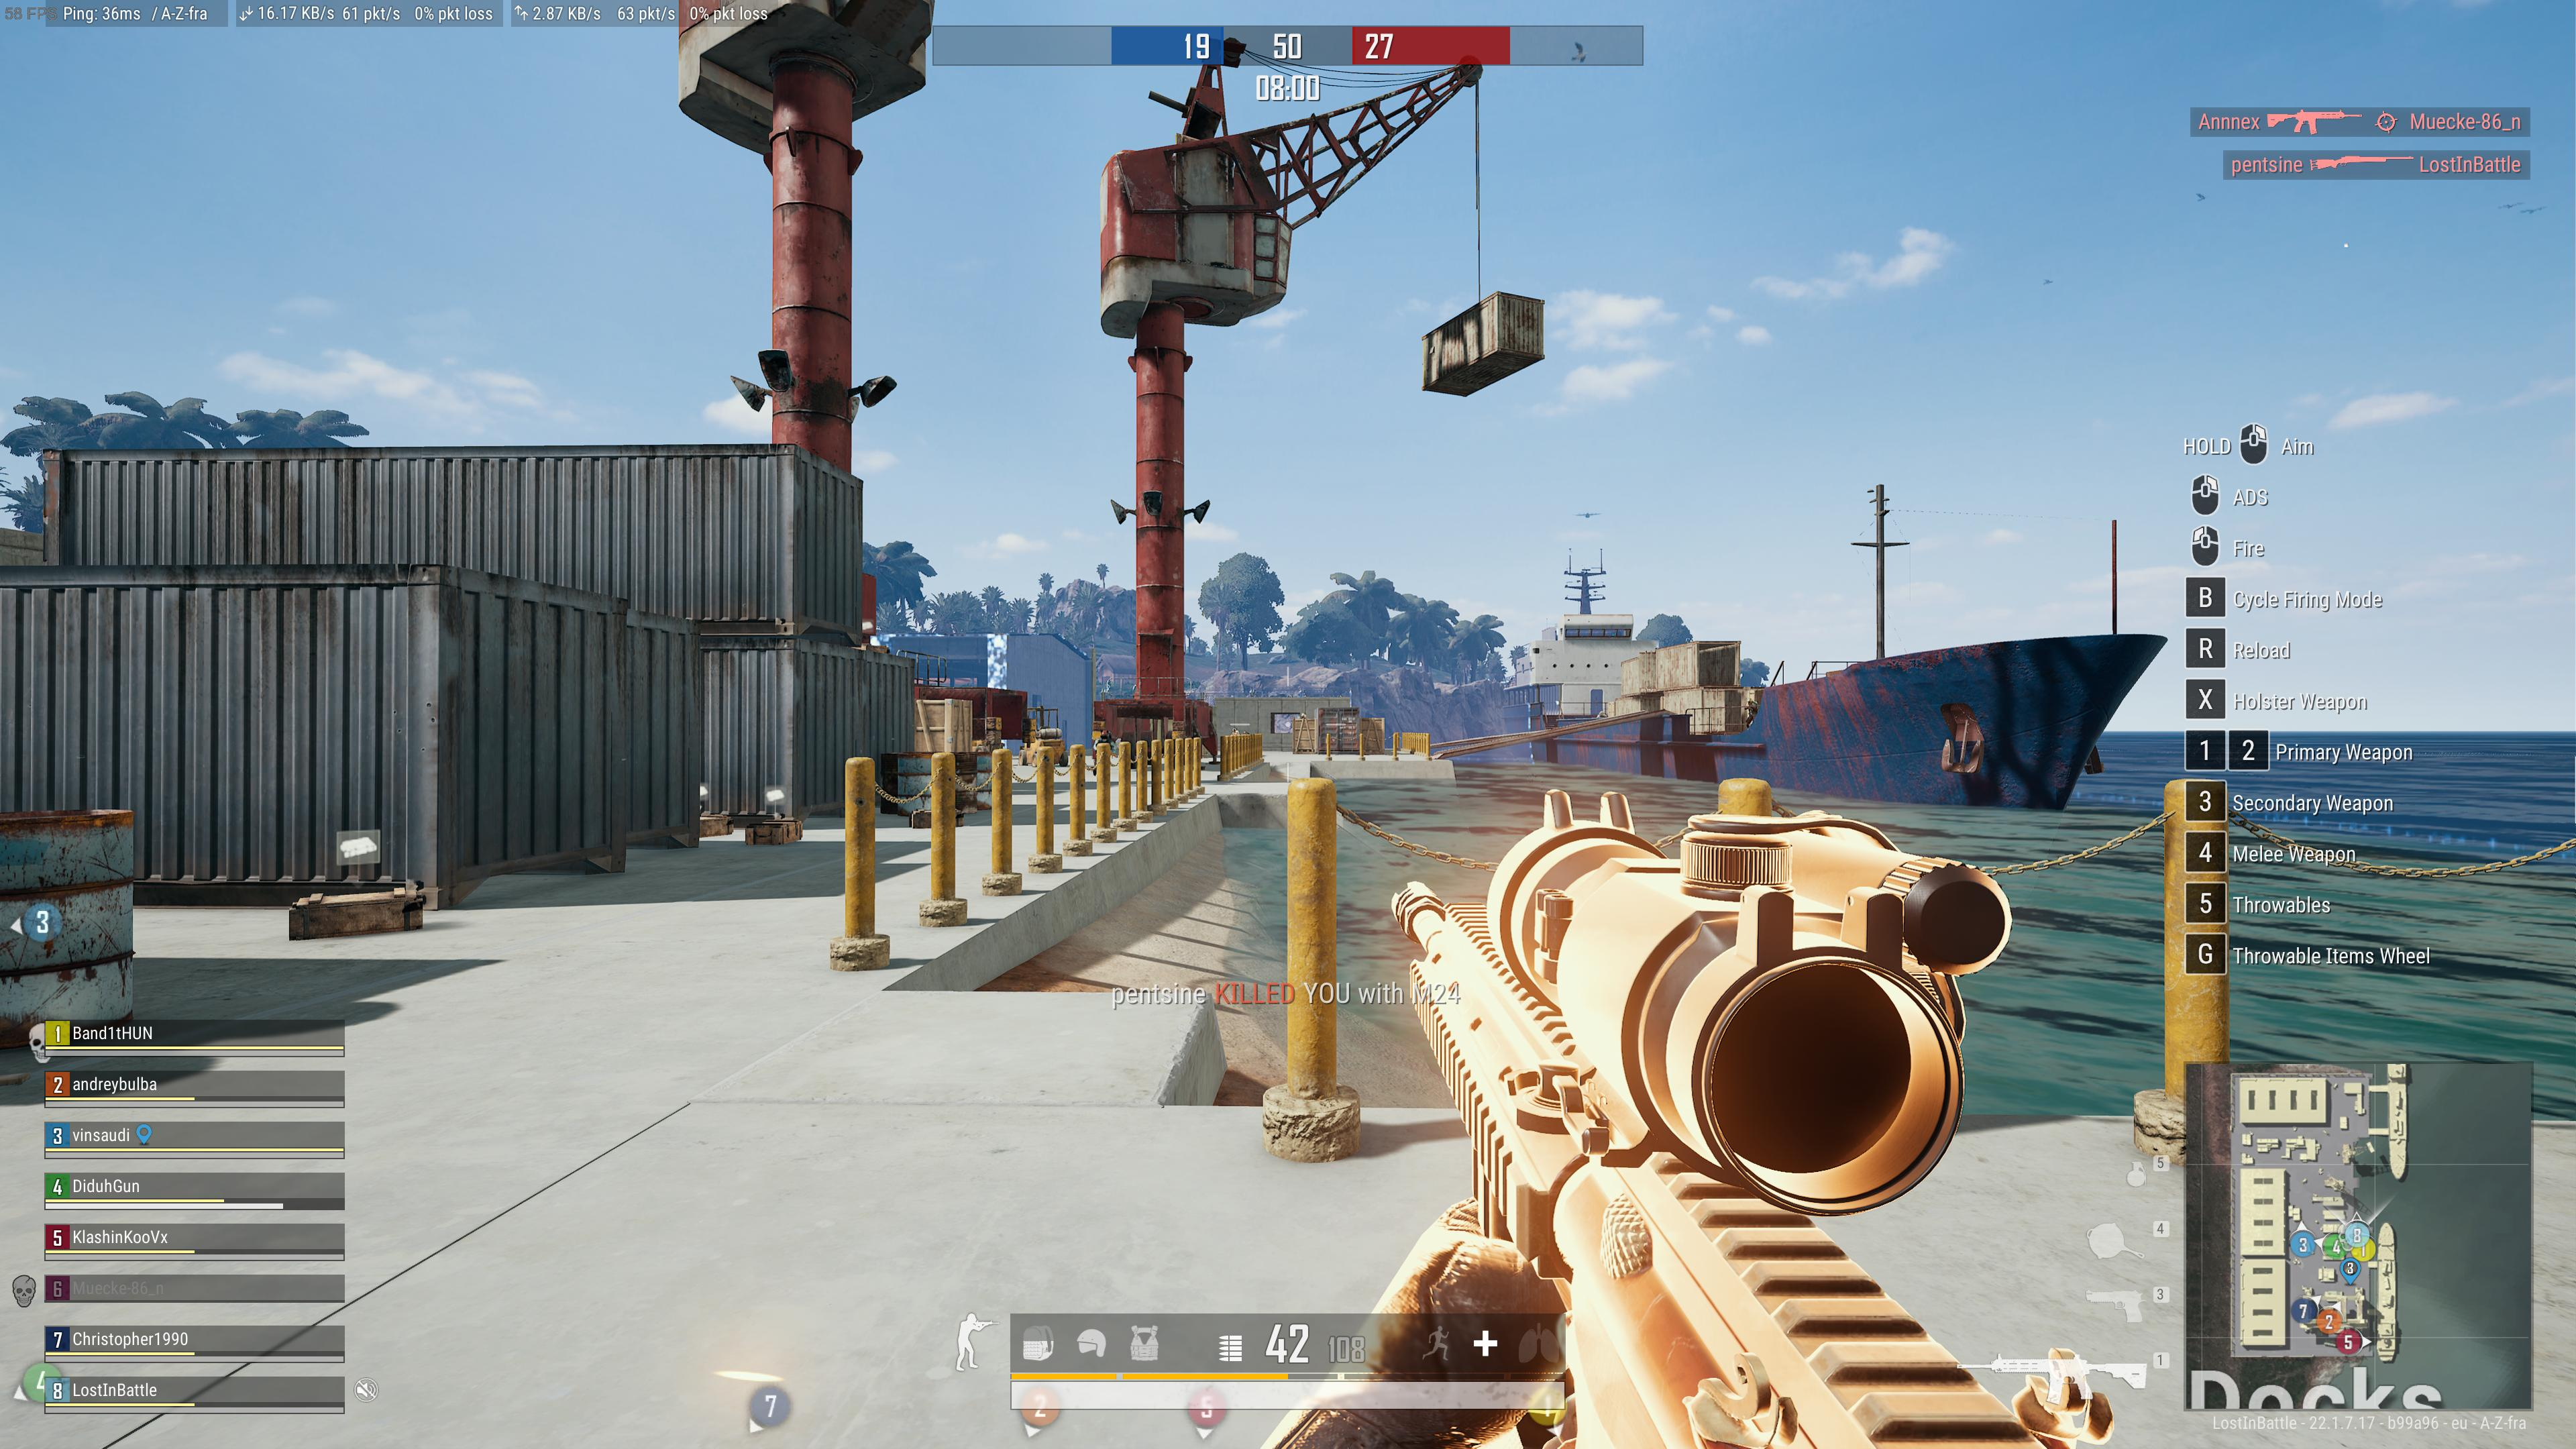enemy: (1743, 697, 1759, 727)
enemy_head: (1099, 729, 1109, 741), (1746, 697, 1753, 706), (1231, 727, 1235, 732)
